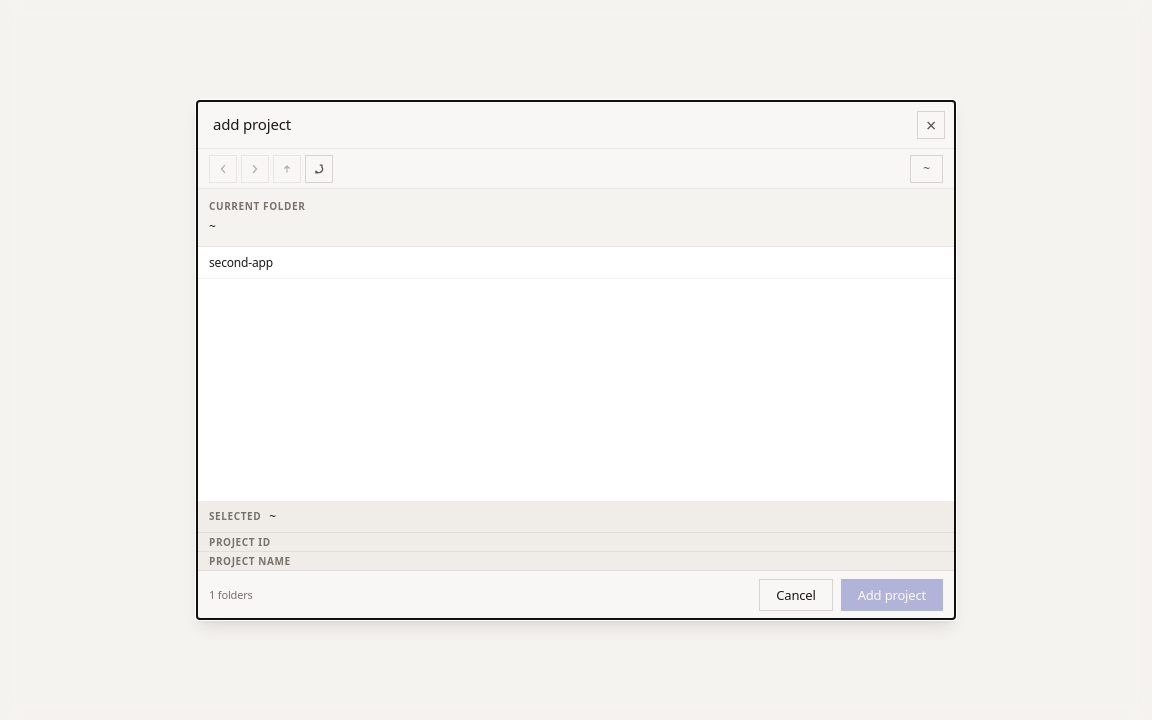
it: AddProjectModal › offers opening the existing project or confirming shared storage reuse when the server returns 409
Click the button "second-app". click: coordinates (241, 262)
box: [197, 247, 955, 279]
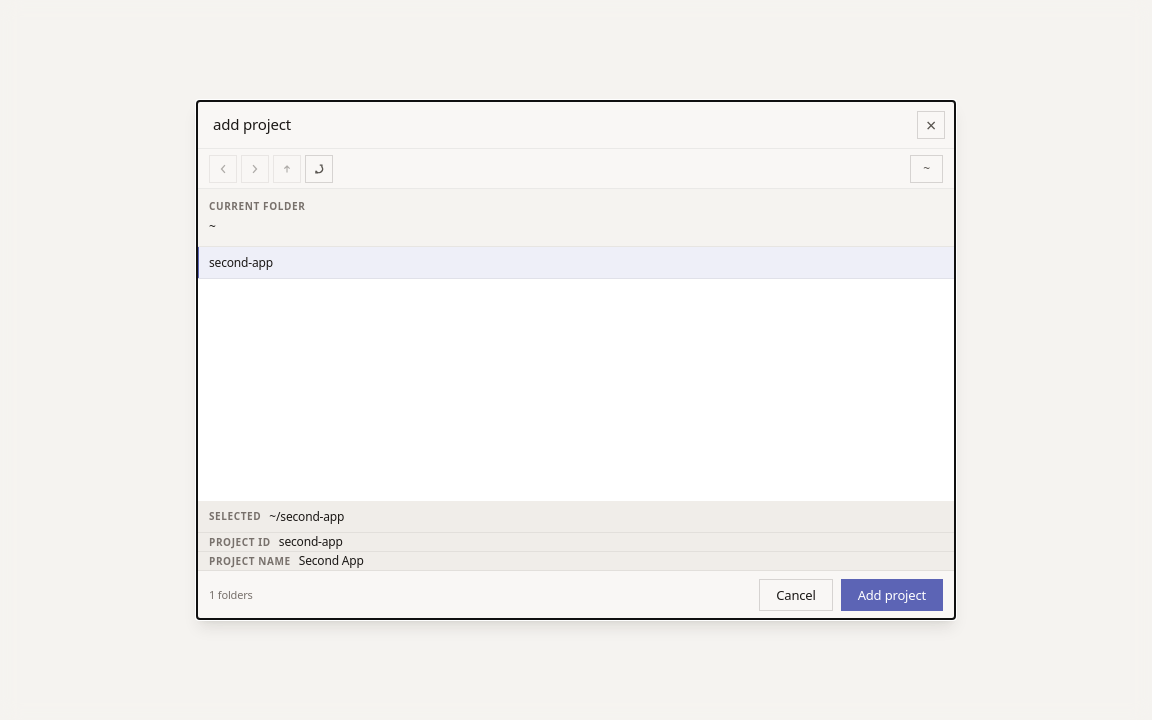
Click the button "Add project". click: coordinates (892, 595)
box: [841, 579, 943, 611]
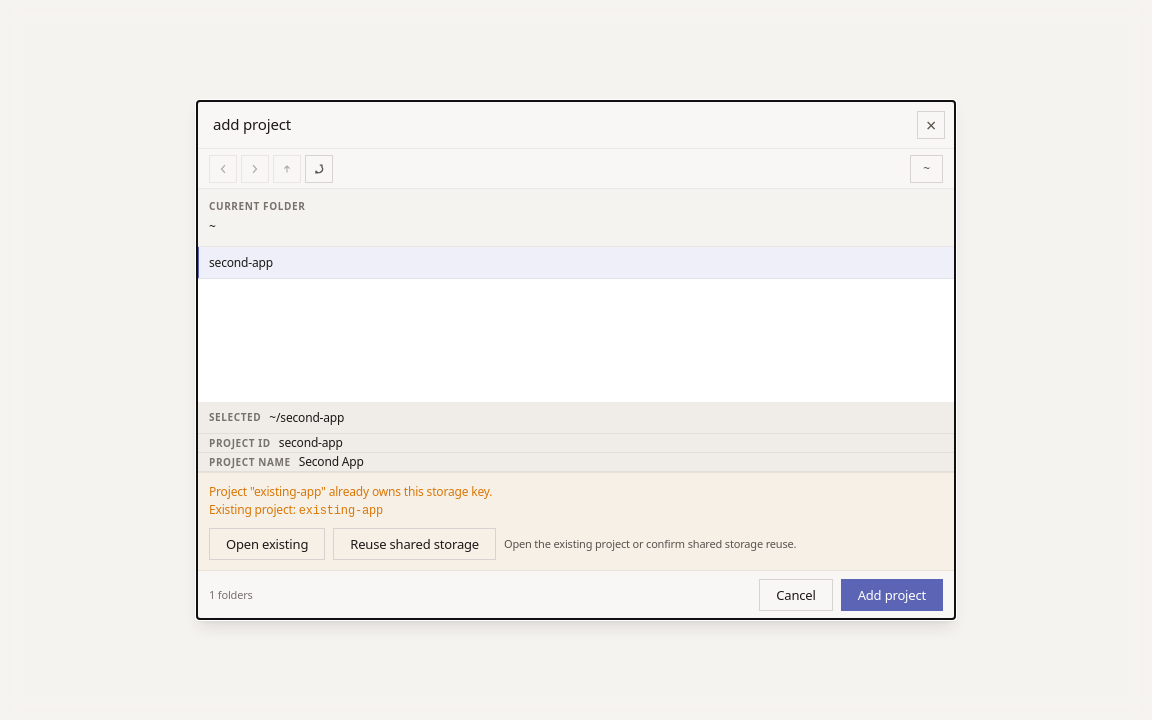
Check: the button "Open existing" is shown, box [209, 528, 325, 560]
Check: the button "Reuse shared storage" is shown, box [333, 528, 496, 560]
